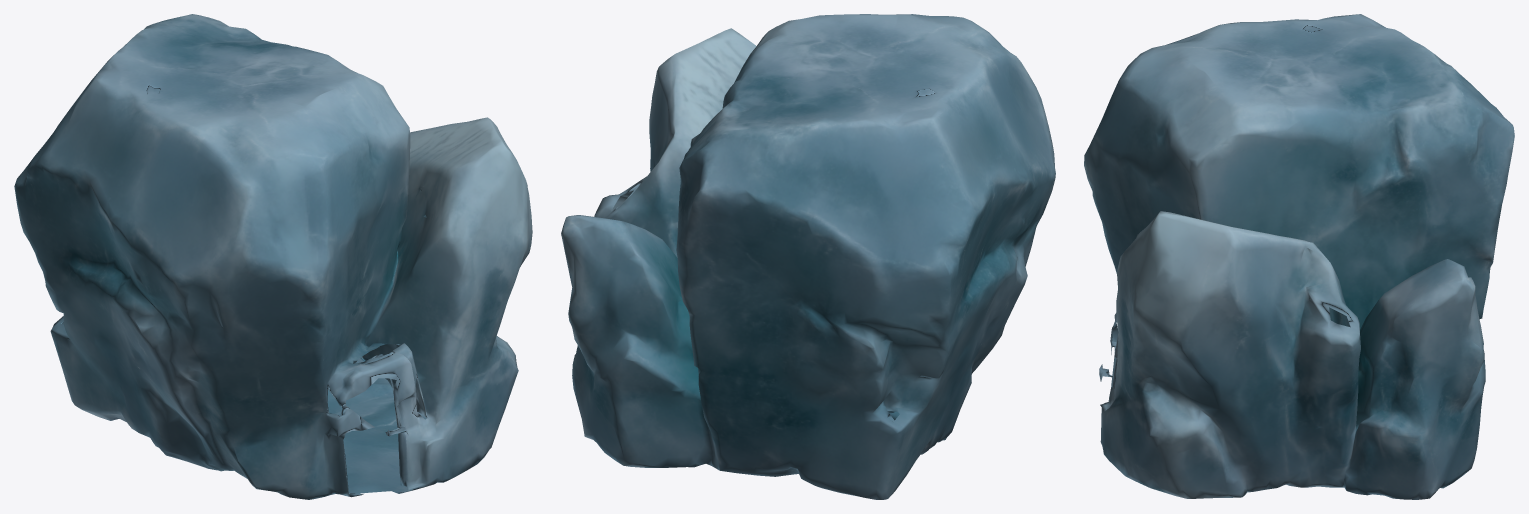
The model's file is led-glyba-kristallicheskaya.glb.
3 views of the same model, side by side, from view 1: azimuth 30°, elevation 25°; view 2: azimuth 150°, elevation 25°; view 3: azimuth 270°, elevation 25° (orthographic). The views are drawn at different scales.
Visible parts, largest first — view 1: geometry_0; view 2: geometry_0; view 3: geometry_0.
Boxes of the visible parts, x1,y1,x2,y2 form: geometry_0: [14, 14, 532, 499]; geometry_0: [561, 14, 1055, 499]; geometry_0: [1084, 14, 1514, 499].
Size of the model in its own units: 0.9981 by 0.8959 by 0.9793.
Materials: 1 (1 with a texture image).
